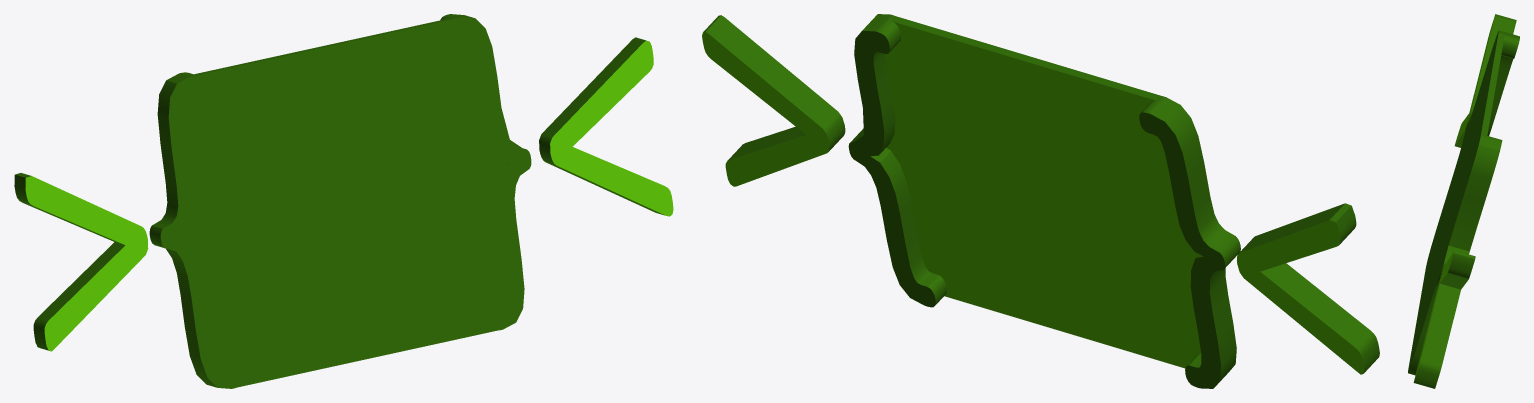
The model's file is AST_selectC.fbx.
3 renders of one model, left to right at view 1: azimuth 30°, elevation 25°; view 2: azimuth 150°, elevation 25°; view 3: azimuth 270°, elevation 25°, orthographic. The views are drawn at different scales.
Parts seen in each view (by area): view 1: MSH_text_selectC; view 2: MSH_text_selectC; view 3: MSH_text_selectC.
Part boxes in pixels (left/top/right/bottom): MSH_text_selectC: left=14, top=14, right=673, bottom=388; MSH_text_selectC: left=702, top=14, right=1379, bottom=388; MSH_text_selectC: left=1408, top=14, right=1519, bottom=388.
Size of the model in its own units: 14.09 by 6.46 by 2.69.
